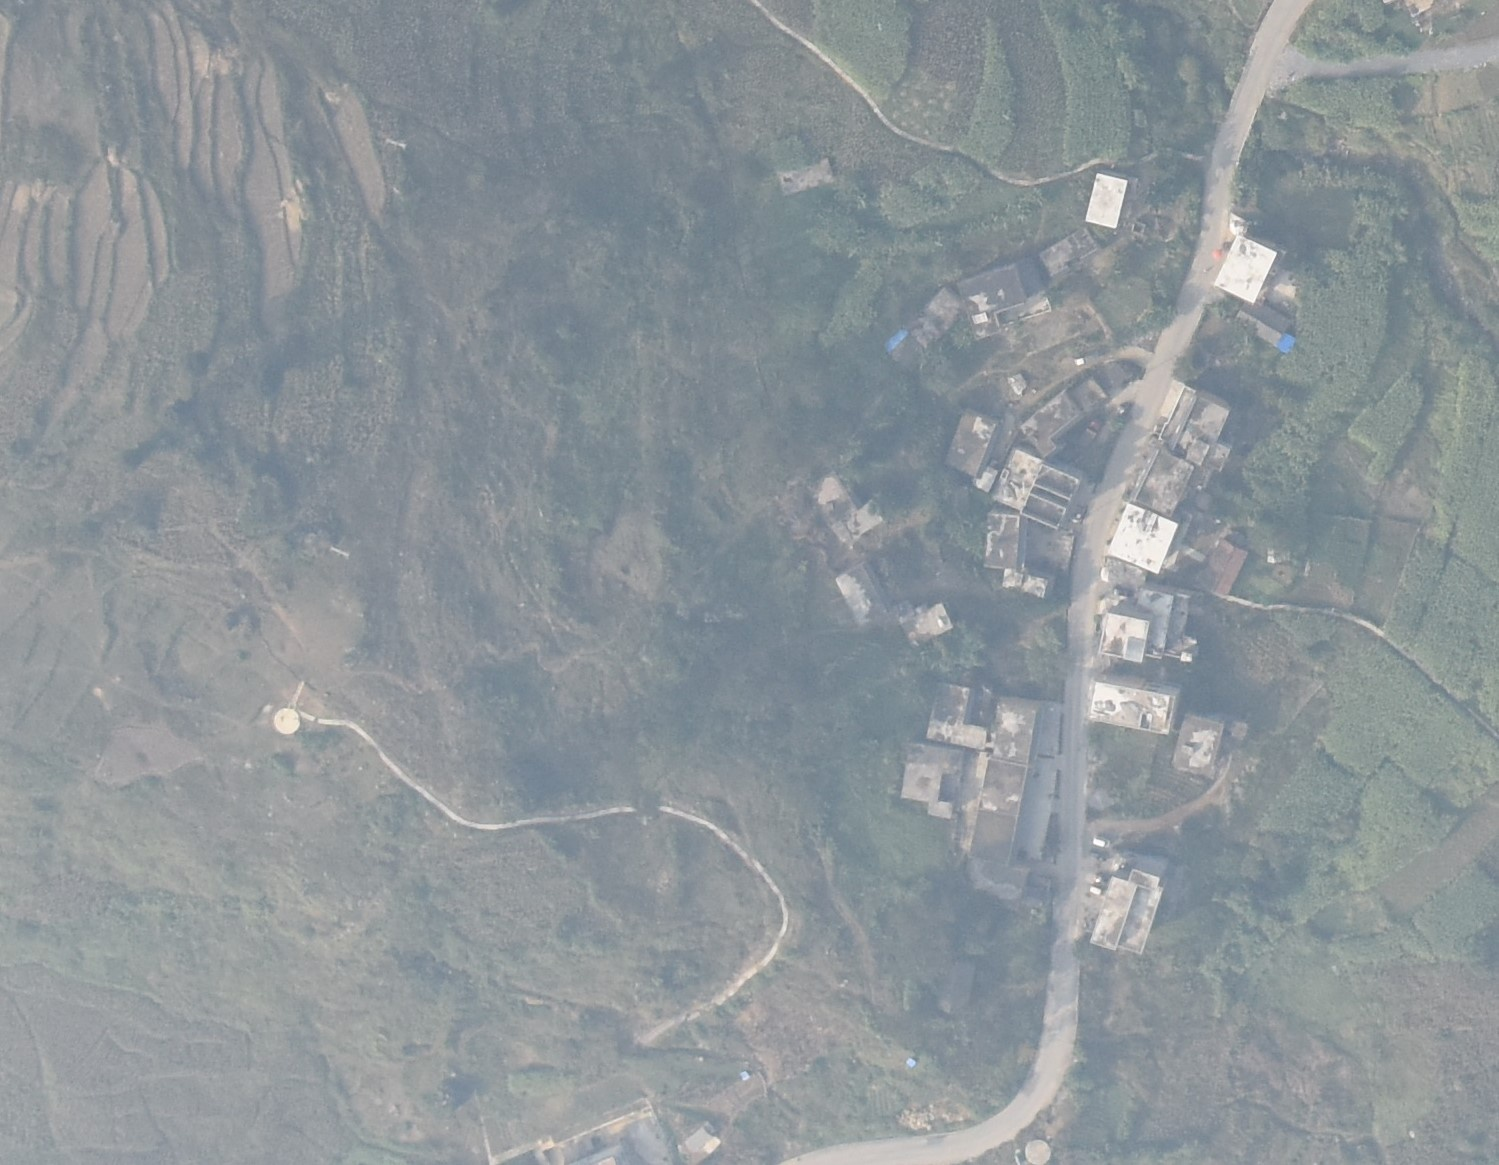building: (995, 446, 1090, 532), (1157, 379, 1231, 472), (803, 469, 887, 550), (1084, 668, 1179, 738), (953, 261, 1030, 347), (1107, 498, 1178, 577), (1165, 710, 1229, 788), (1127, 441, 1190, 519), (923, 683, 992, 754), (1017, 384, 1084, 457), (1211, 229, 1275, 304), (1084, 868, 1139, 954), (946, 404, 1005, 480), (893, 738, 960, 803), (967, 756, 1032, 821), (903, 283, 967, 347), (836, 564, 894, 631), (774, 151, 846, 202), (1094, 609, 1155, 667), (988, 694, 1038, 764), (1035, 228, 1101, 281), (1230, 294, 1294, 347), (1135, 589, 1178, 665), (967, 808, 1022, 865), (979, 507, 1027, 572), (893, 602, 959, 648), (1084, 168, 1128, 232), (999, 566, 1058, 601), (1075, 371, 1110, 416), (1128, 867, 1161, 894), (972, 466, 1000, 493), (921, 799, 952, 821)
prefabricated-house: (546, 1097, 674, 1162), (1198, 535, 1248, 603), (674, 1120, 722, 1165), (883, 325, 916, 358), (1269, 329, 1296, 357), (902, 1053, 919, 1071), (737, 1069, 751, 1082)
vehicle: (1091, 832, 1111, 851)
well: (1017, 1134, 1059, 1164), (269, 705, 308, 736)
